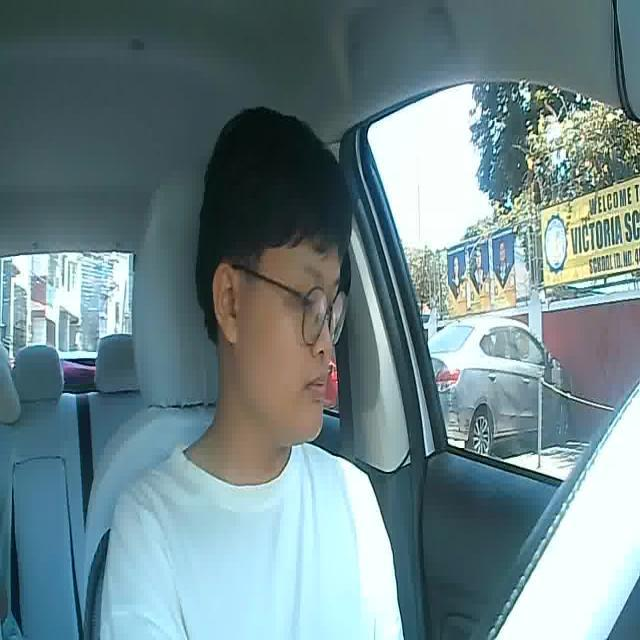Eye-Open: (296, 290, 316, 313)
Inattentive: (195, 105, 356, 444)
Normal: (305, 373, 327, 399)
